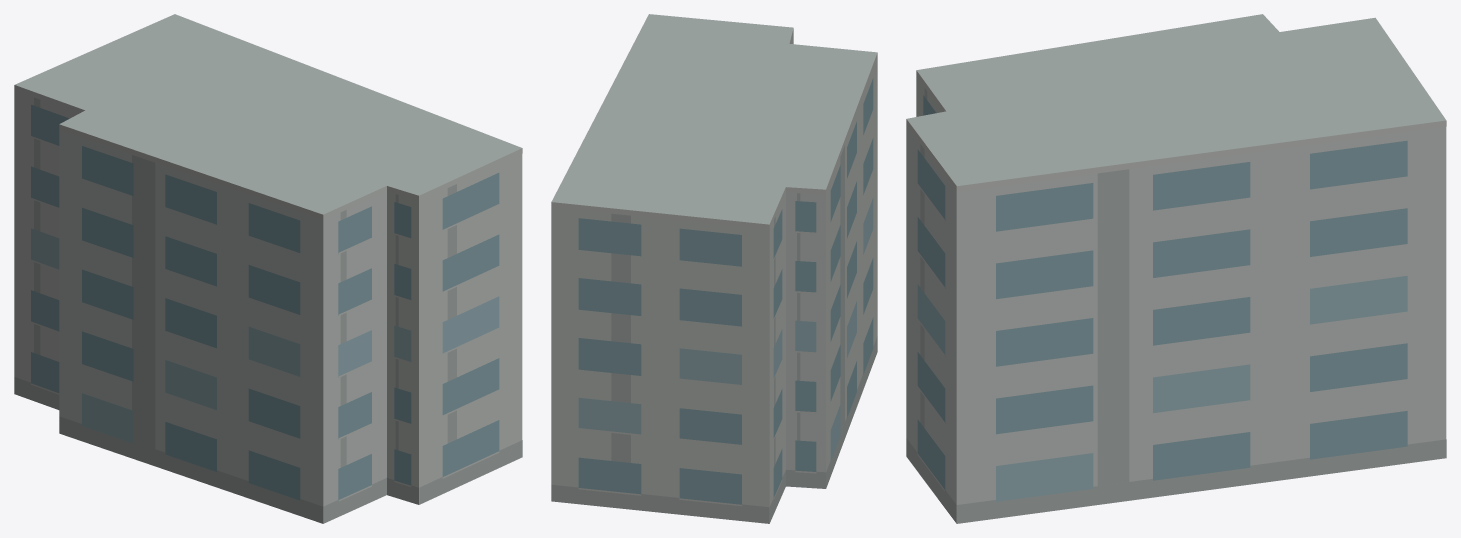
File: survey-upis-32561043.glb
3 views of the same model, side by side, from view 1: azimuth 30°, elevation 25°; view 2: azimuth 150°, elevation 25°; view 3: azimuth 270°, elevation 25° (orthographic). The views are drawn at different scales.
Parts seen in each view (by area): view 1: survey-upis-32561043.tmp; view 2: survey-upis-32561043.tmp; view 3: survey-upis-32561043.tmp.
Part boxes in pixels (x1,y1,x2,y2): survey-upis-32561043.tmp: [14, 14, 522, 523]; survey-upis-32561043.tmp: [551, 14, 877, 523]; survey-upis-32561043.tmp: [906, 14, 1446, 523].
Bounding box in the file's own units: 14.77 × 13.5 × 19.58.
